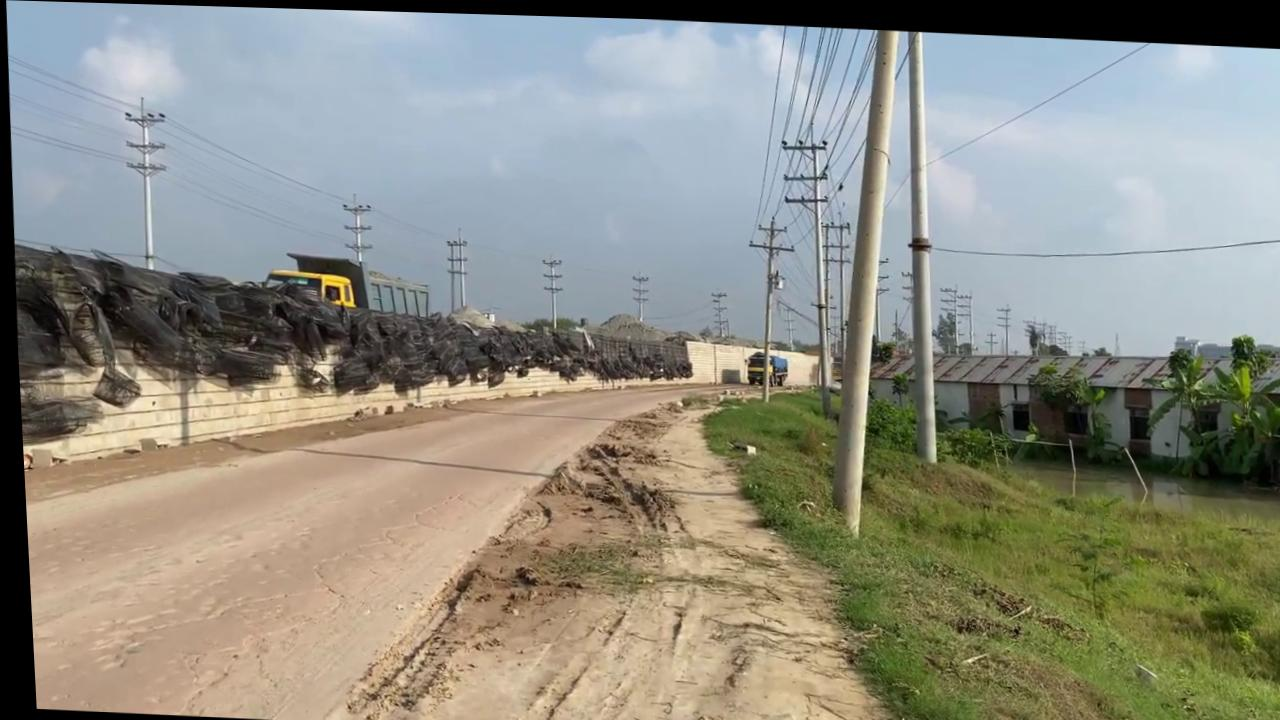Muddy road: (14, 341, 775, 720)
Pole: (807, 22, 920, 535), (892, 25, 942, 457)
Rickshaw: (309, 367, 896, 720)
Sidewalk: (993, 450, 1280, 525)
Traffic-sign: (1134, 320, 1280, 484)
Tree: (257, 249, 427, 316), (739, 346, 785, 382)
Upstairs: (10, 240, 694, 434)
